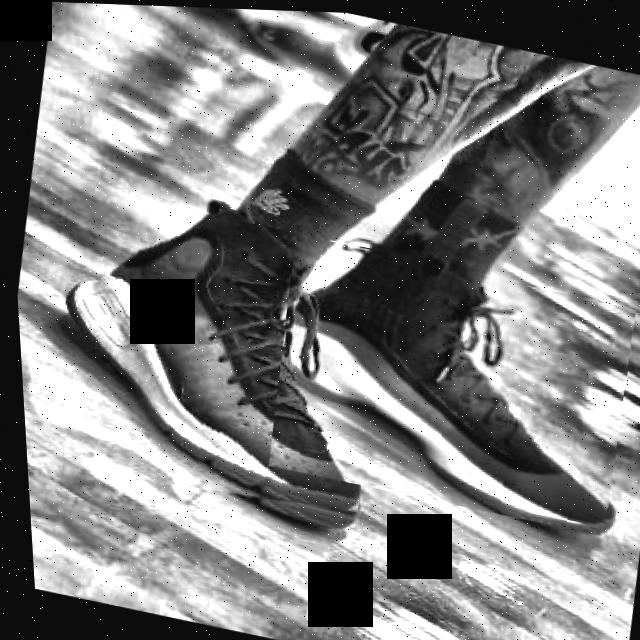shoe: (32, 186, 398, 529), (251, 229, 640, 534)
